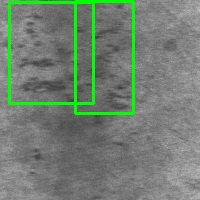rolled-in_scale: (9, 2, 93, 103), (75, 1, 133, 113)
